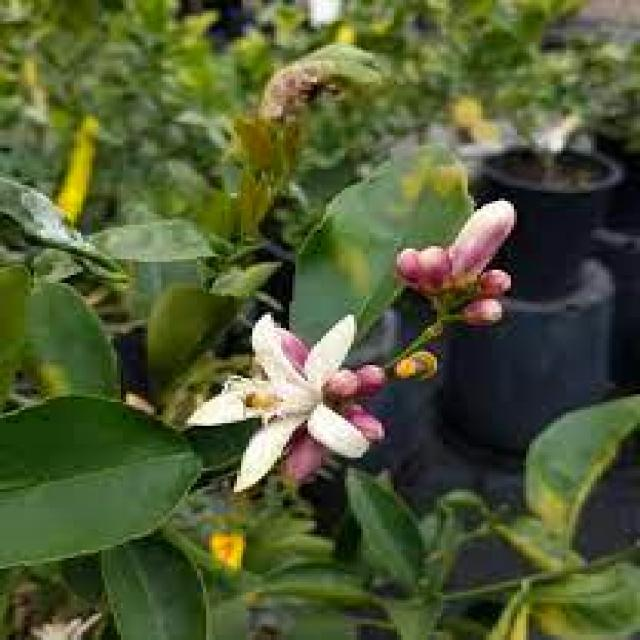Bunga: (184, 314, 370, 486)
